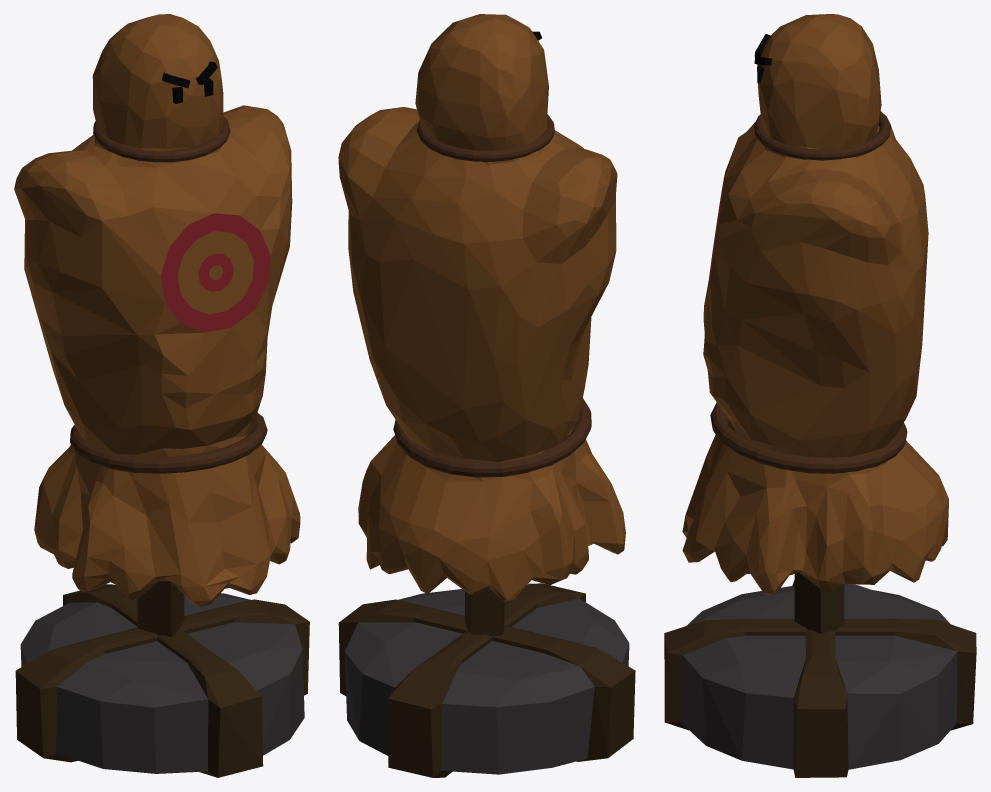
Rendered from Kukla.fbx.
3 renders of one model, left to right at view 1: azimuth 30°, elevation 25°; view 2: azimuth 150°, elevation 25°; view 3: azimuth 270°, elevation 25°, orthographic.
Parts seen in each view (by area): view 1: Sphere, Cylinder, Torus.001, Torus.002; view 2: Sphere, Cylinder, Torus.001, Torus.002; view 3: Sphere, Cylinder, Torus.001, Torus.002.
Part boxes in pixels (box(x1,y1,x2,y2)): Sphere: box(14, 14, 300, 606); Cylinder: box(15, 581, 309, 777); Torus.001: box(70, 412, 267, 473); Torus.002: box(93, 116, 230, 162); Sphere: box(338, 14, 625, 601); Cylinder: box(338, 583, 635, 777); Torus.001: box(393, 398, 591, 477); Torus.002: box(417, 114, 554, 161); Sphere: box(682, 14, 948, 594); Cylinder: box(664, 572, 976, 777); Torus.001: box(710, 402, 907, 473); Torus.002: box(754, 111, 891, 160).
Size of the model in its own units: 1.08 by 1.08 by 2.71.
